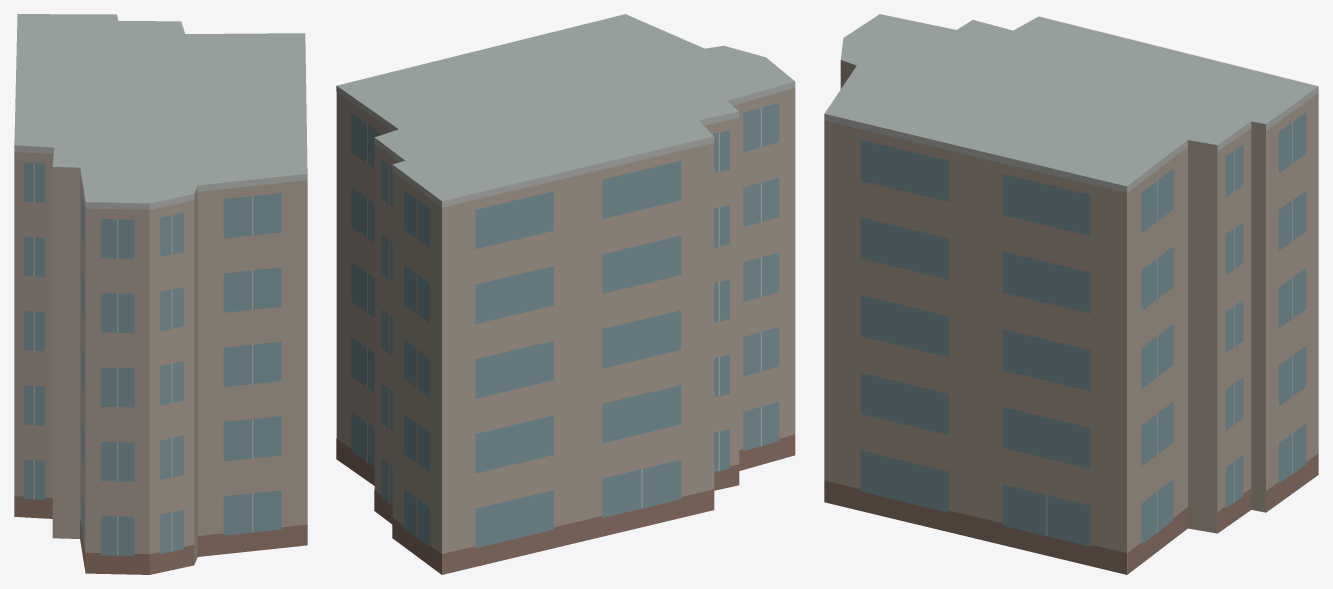
The model's file is survey-upis-33024480.glb.
The picture shows the model from 3 angles, left to right: view 1: azimuth 30°, elevation 25°; view 2: azimuth 150°, elevation 25°; view 3: azimuth 270°, elevation 25°; orthographic projection. The views are drawn at different scales.
Visible parts, largest first — view 1: survey-upis-33024480.tmp; view 2: survey-upis-33024480.tmp; view 3: survey-upis-33024480.tmp.
Boxes of the visible parts, bbox=[...] form: survey-upis-33024480.tmp: bbox=[14, 14, 307, 574]; survey-upis-33024480.tmp: bbox=[336, 14, 795, 574]; survey-upis-33024480.tmp: bbox=[824, 14, 1318, 574].
Bounding box in the file's own units: 13.39 × 14.06 × 16.22.
